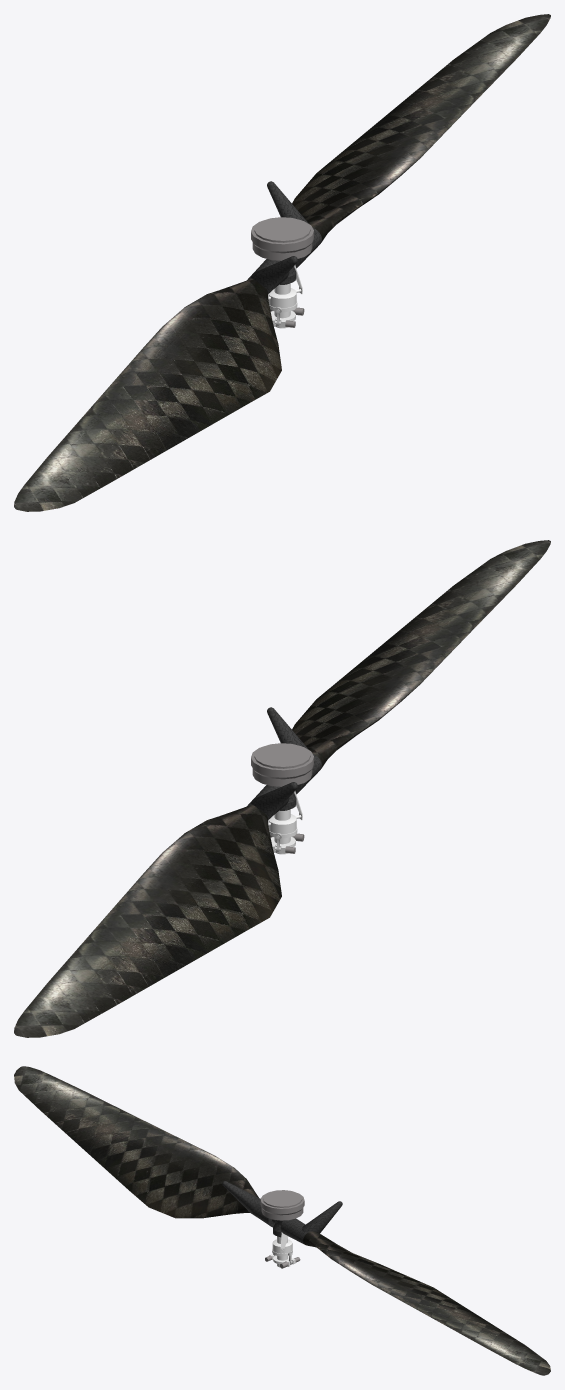
File: rotor_blade_bottom.dae
The picture shows the model from 3 angles, top to bottom: view 1: azimuth 30°, elevation 25°; view 2: azimuth 210°, elevation 25°; view 3: azimuth 270°, elevation 25°; orthographic projection. The views are drawn at different scales.
Visible parts, largest first — view 1: rotor_bottom; view 2: rotor_bottom; view 3: rotor_bottom.
Boxes of the visible parts, <box> form: rotor_bottom: <box>14,14,550,511</box>; rotor_bottom: <box>14,540,550,1037</box>; rotor_bottom: <box>14,1066,550,1375</box>.
Bounding box in the file's own units: 0.9864 × 0.7241 × 0.1101.
5 materials, 2 textured.
